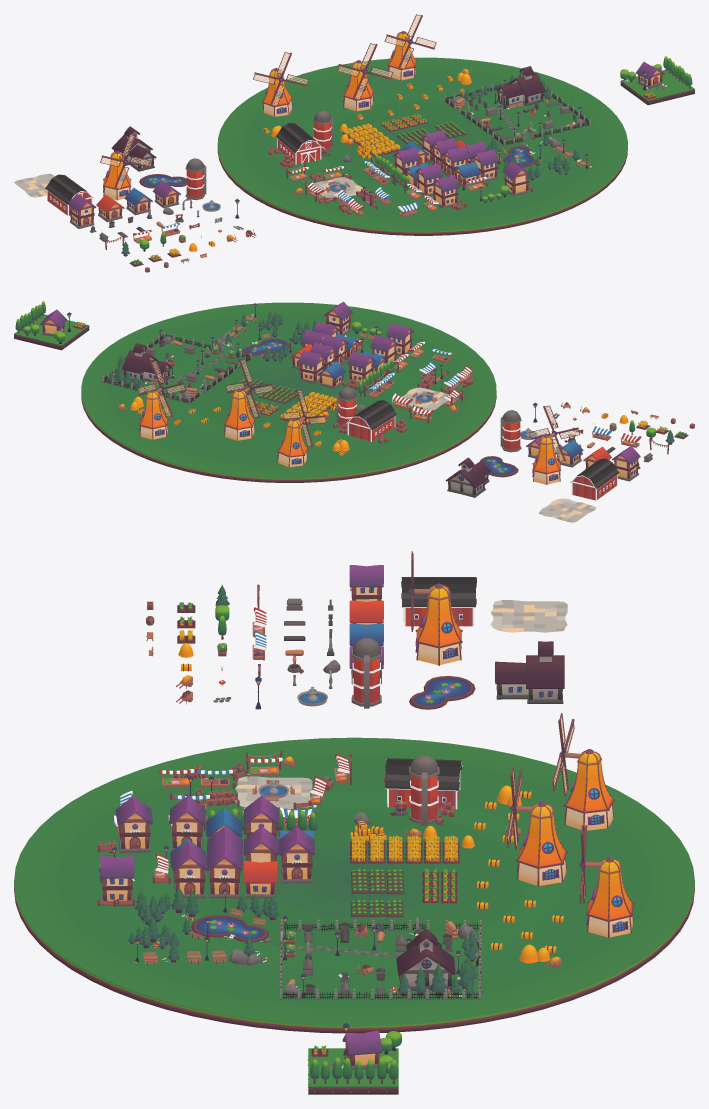
Rendered from rural-transformed.glb.
3 views of the same model, one above another, from view 1: azimuth 30°, elevation 25°; view 2: azimuth 150°, elevation 25°; view 3: azimuth 270°, elevation 25° (orthographic). The views are drawn at different scales.
Parts seen in each view (by area): view 1: House_Purple_Material.005_0; view 2: House_Purple_Material.005_0; view 3: House_Purple_Material.005_0.
Boxes of the visible parts, x1,y1,x2,y2 form: House_Purple_Material.005_0: (14,14,694,272); House_Purple_Material.005_0: (14,301,694,522); House_Purple_Material.005_0: (14,551,694,1094).
Bounding box in the file's own units: 64.31 × 7.31 × 37.72.
Materials: 1 (1 with a texture image).
